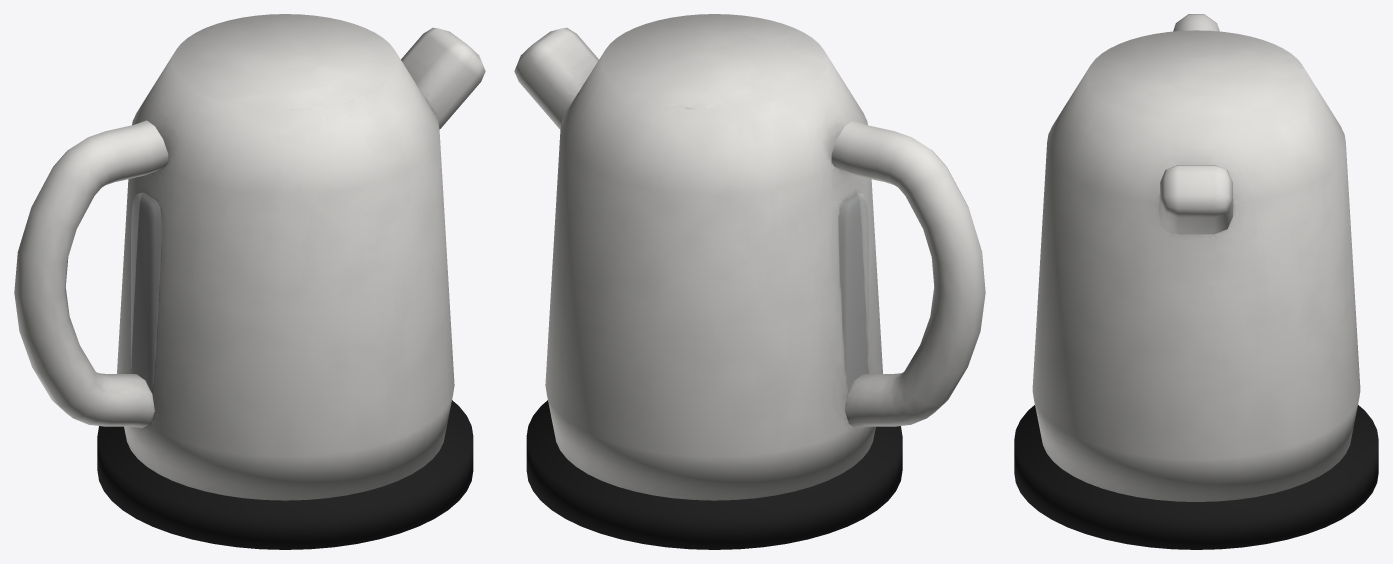
Rendered from electric-white.glb.
3 renders of one model, left to right at view 1: azimuth 30°, elevation 25°; view 2: azimuth 150°, elevation 25°; view 3: azimuth 270°, elevation 25°, orthographic. The views are drawn at different scales.
Parts seen in each view (by area): view 1: plastic_primary, base_black, window_glass; view 2: plastic_primary, base_black, window_glass; view 3: plastic_primary, base_black.
Boxes of the visible parts, bbox=[...] form: plastic_primary: bbox=[14, 14, 485, 500]; base_black: bbox=[97, 400, 473, 549]; window_glass: bbox=[131, 192, 161, 391]; plastic_primary: bbox=[514, 14, 985, 500]; base_black: bbox=[526, 400, 902, 549]; window_glass: bbox=[838, 192, 868, 390]; plastic_primary: bbox=[1032, 14, 1360, 501]; base_black: bbox=[1014, 405, 1378, 549].
Size of the model in its own units: 0.2798 by 0.24 by 0.2.
Materials: 3 (1 with a texture image).
